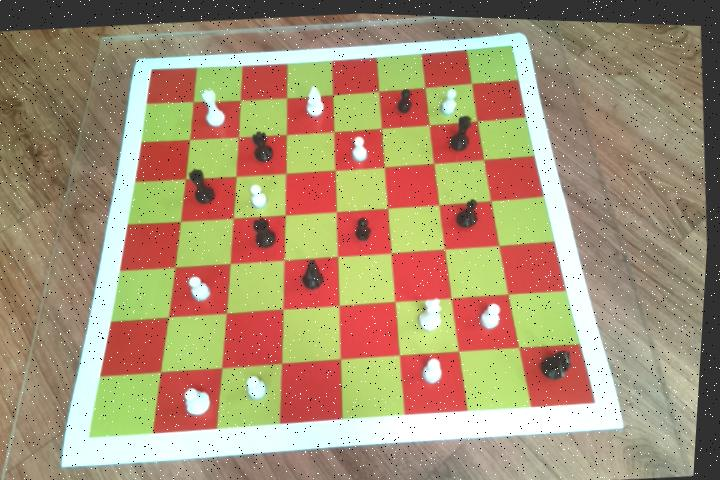chessboard-detect: (94, 40, 600, 435)
